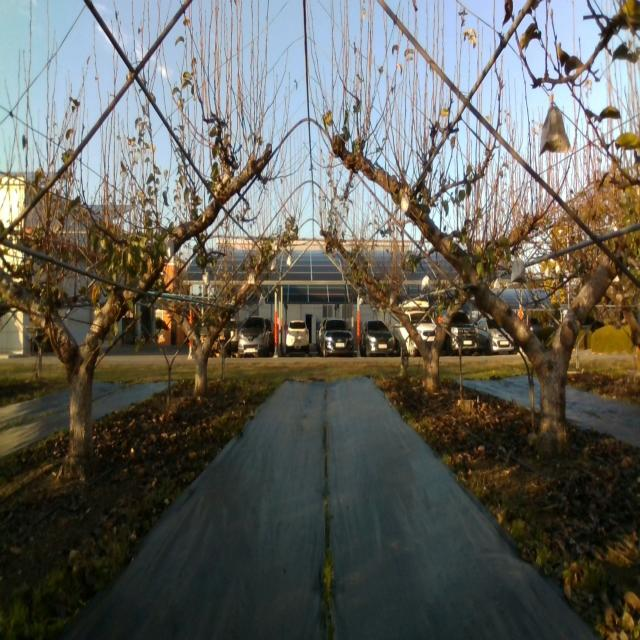pearbags: (539, 105, 572, 158), (510, 257, 528, 285)
